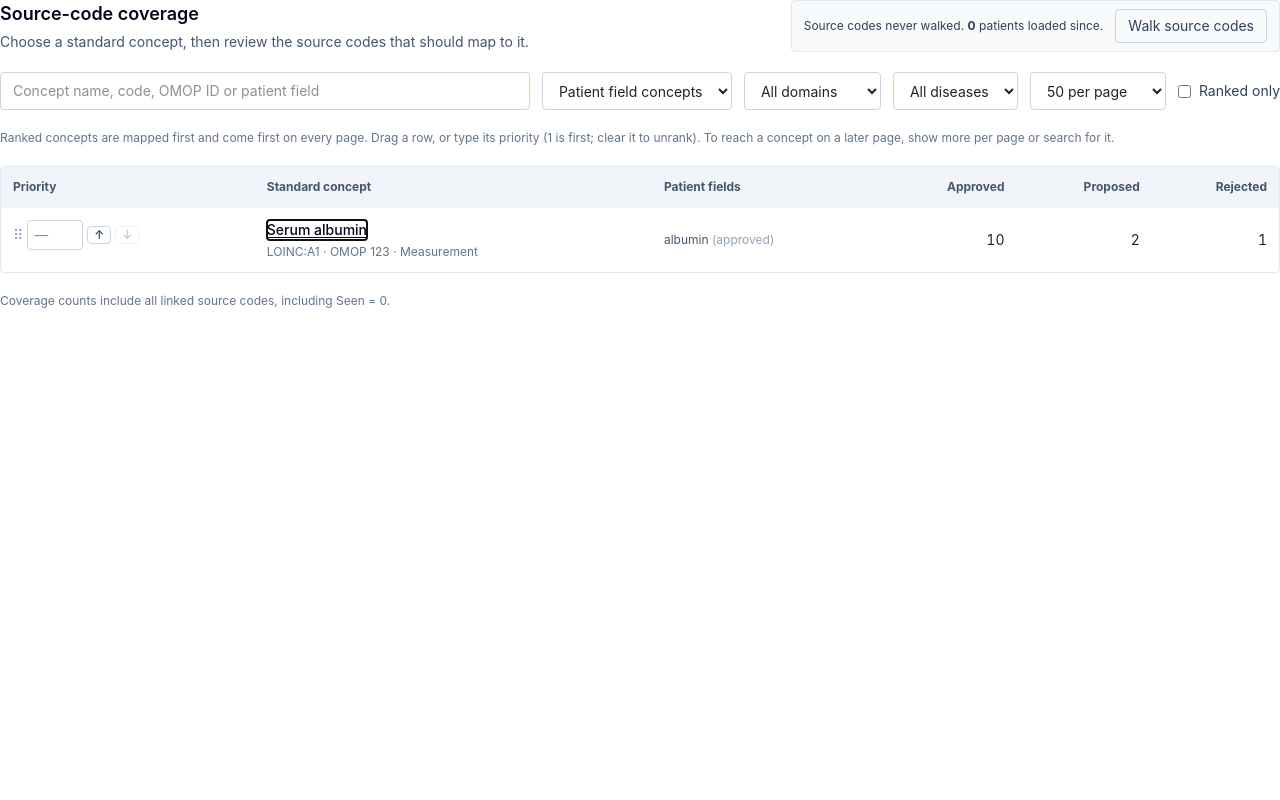
Test: concept-first curation › supports keyboard opening, traps focus, and returns focus on Escape
Press Enter
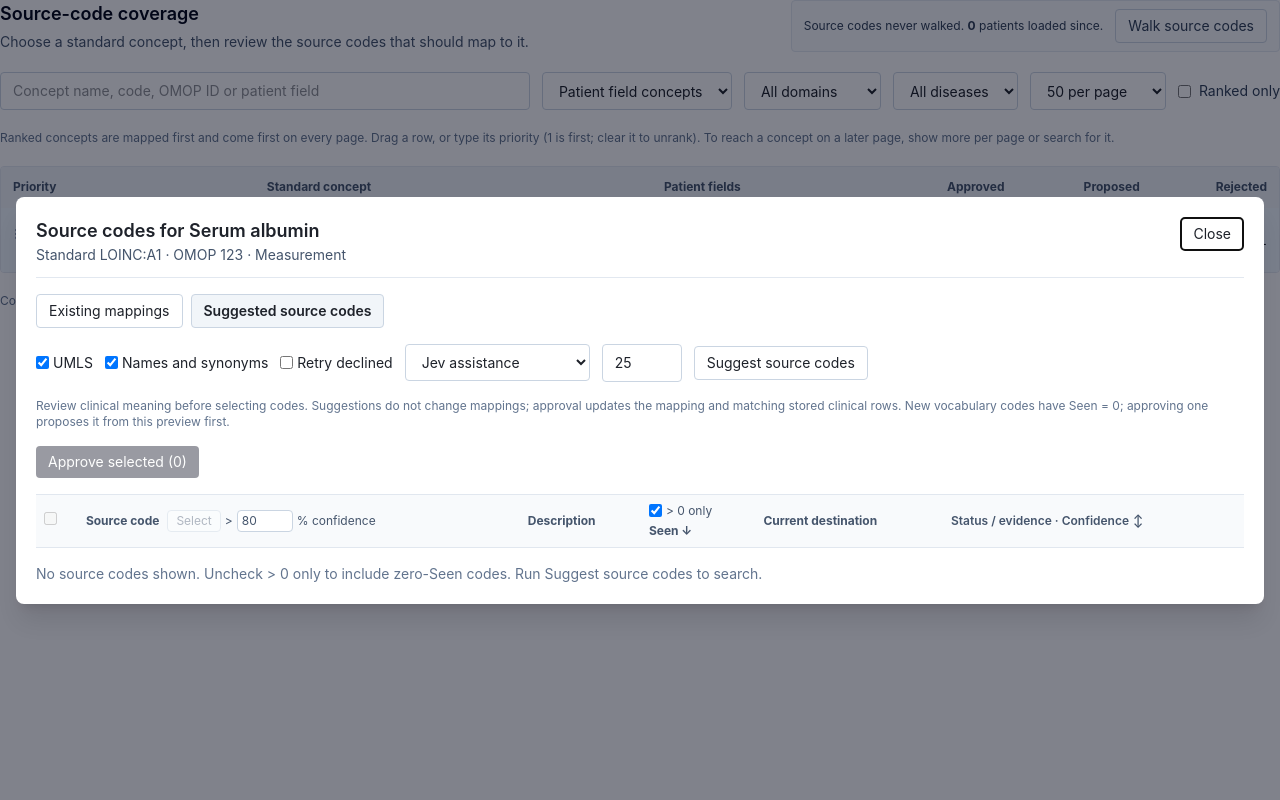
Click the button "Existing mappings" at (109, 310), box [36,294,182,328]
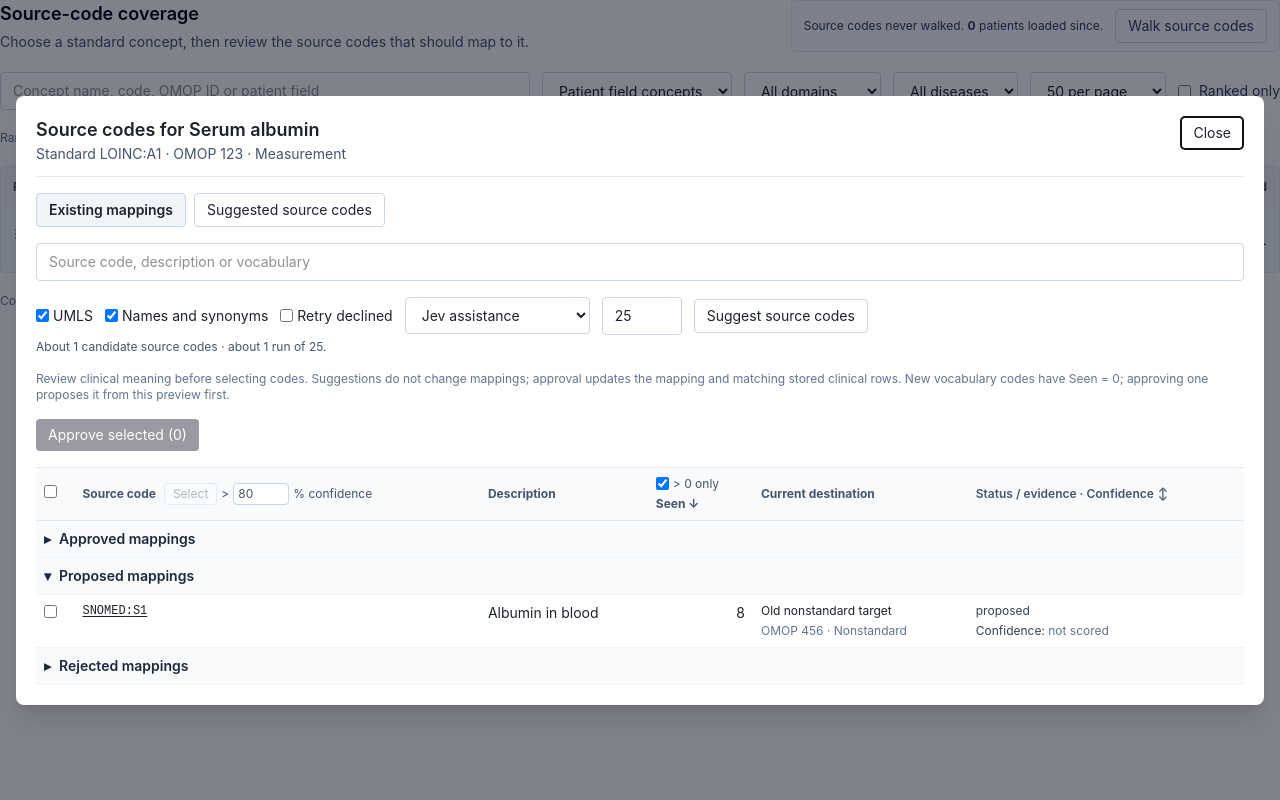
Result: the button "SNOMED:S1" is shown at [82,602,147,618]
Press Shift+Tab
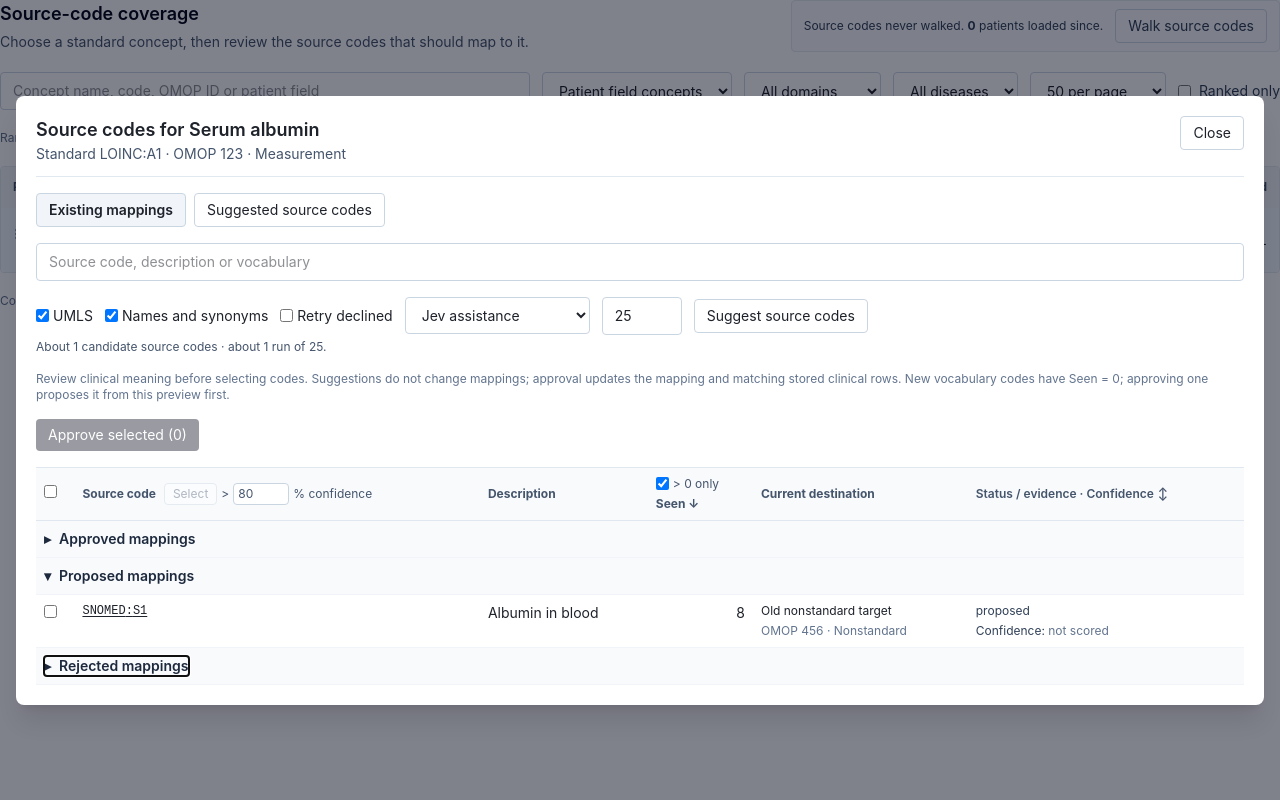
Press Tab
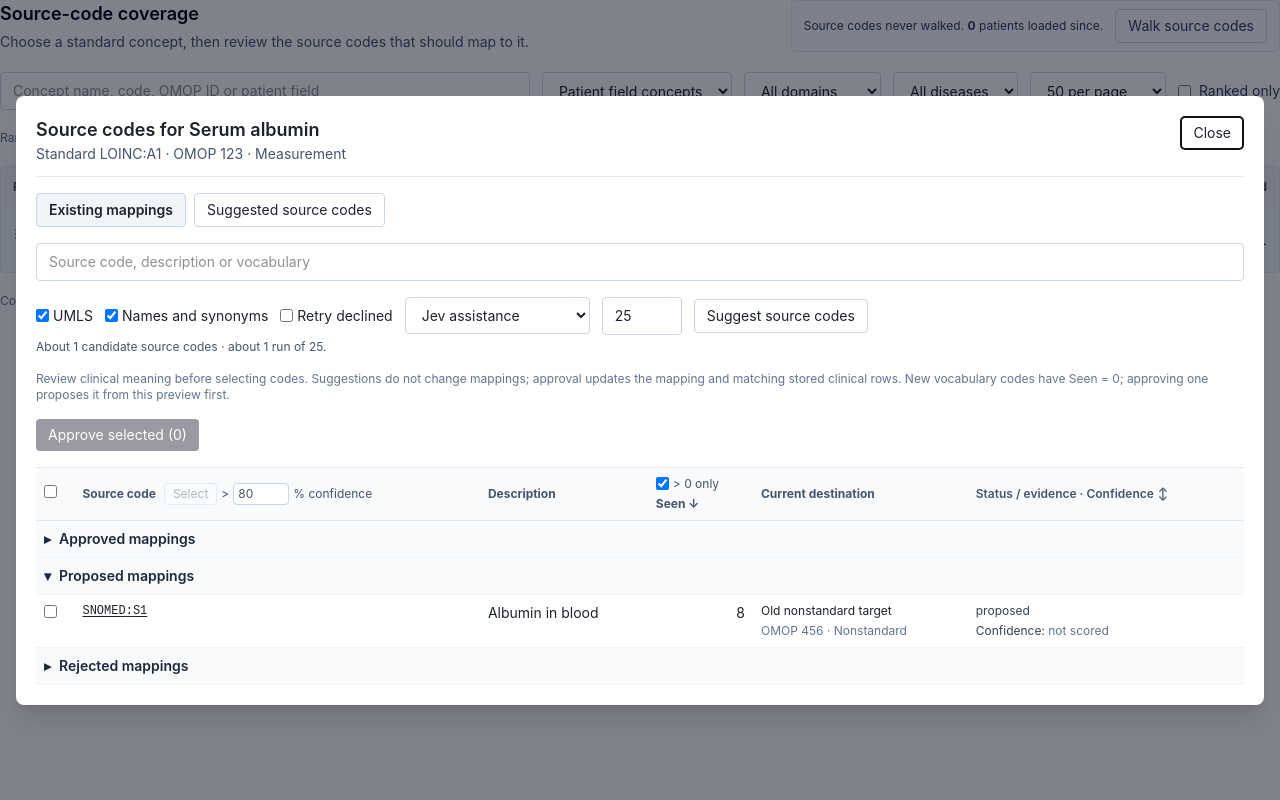
Press Escape
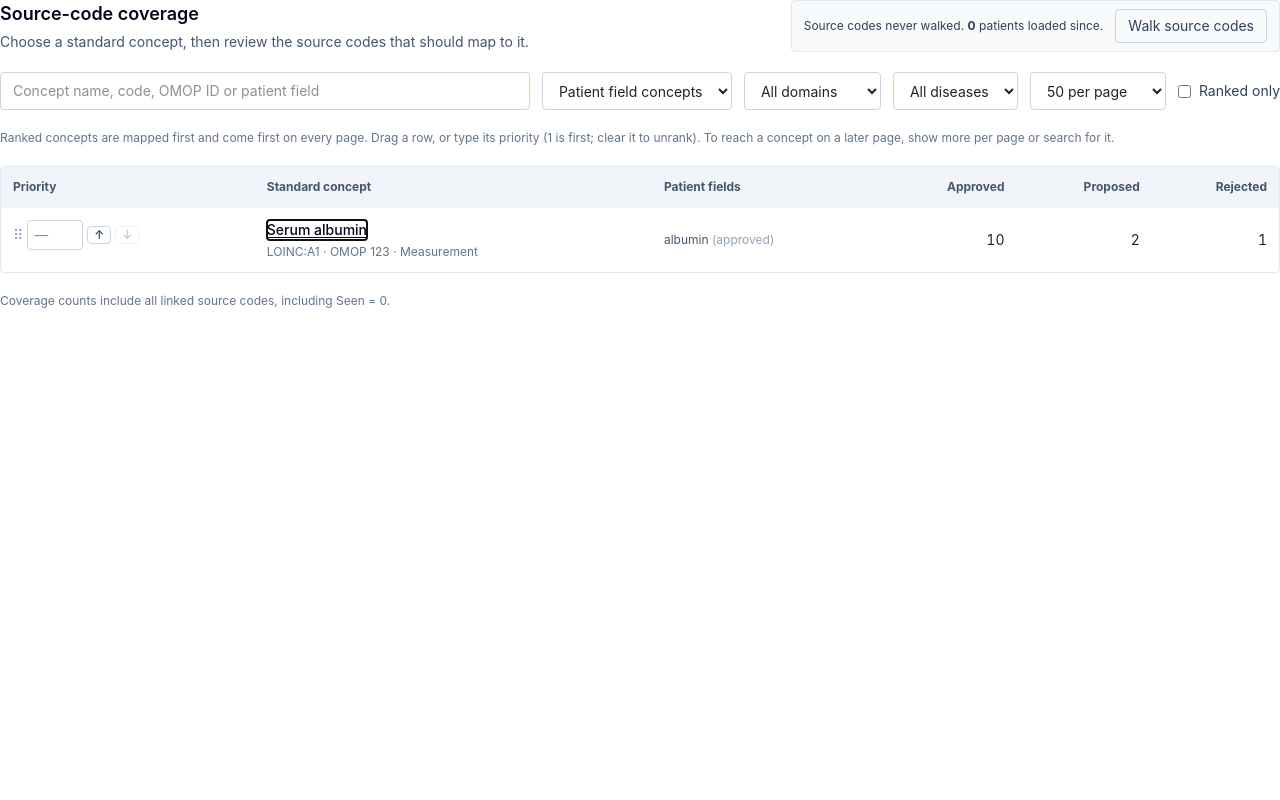
Result: the dialog is gone
